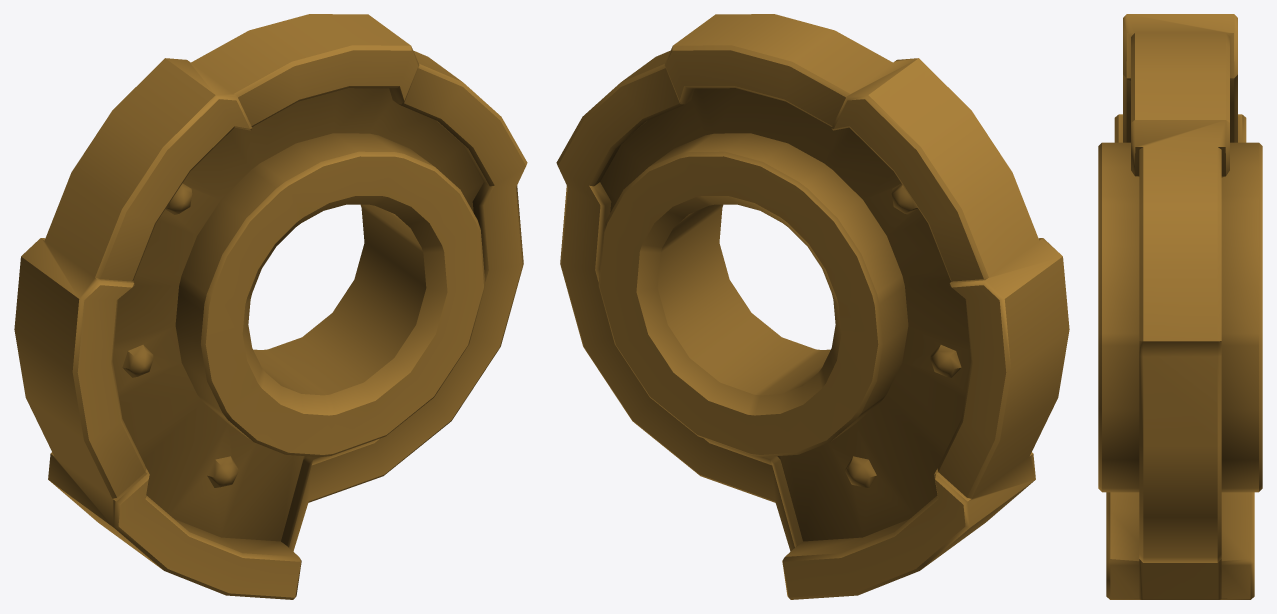
Rendered from cam_hourly_chime.glb.
3 views of the same model, side by side, from view 1: azimuth 30°, elevation 25°; view 2: azimuth 150°, elevation 25°; view 3: azimuth 270°, elevation 25° (orthographic). The views are drawn at different scales.
Visible parts, largest first — view 1: Cam_HourlyChime; view 2: Cam_HourlyChime; view 3: Cam_HourlyChime.
Boxes of the visible parts, box(x1,y1,x2,y2) form: Cam_HourlyChime: box(14, 14, 527, 599); Cam_HourlyChime: box(556, 14, 1069, 599); Cam_HourlyChime: box(1098, 14, 1262, 599).
Size of the model in its own units: 0.0209 by 0.0226 by 0.006.
